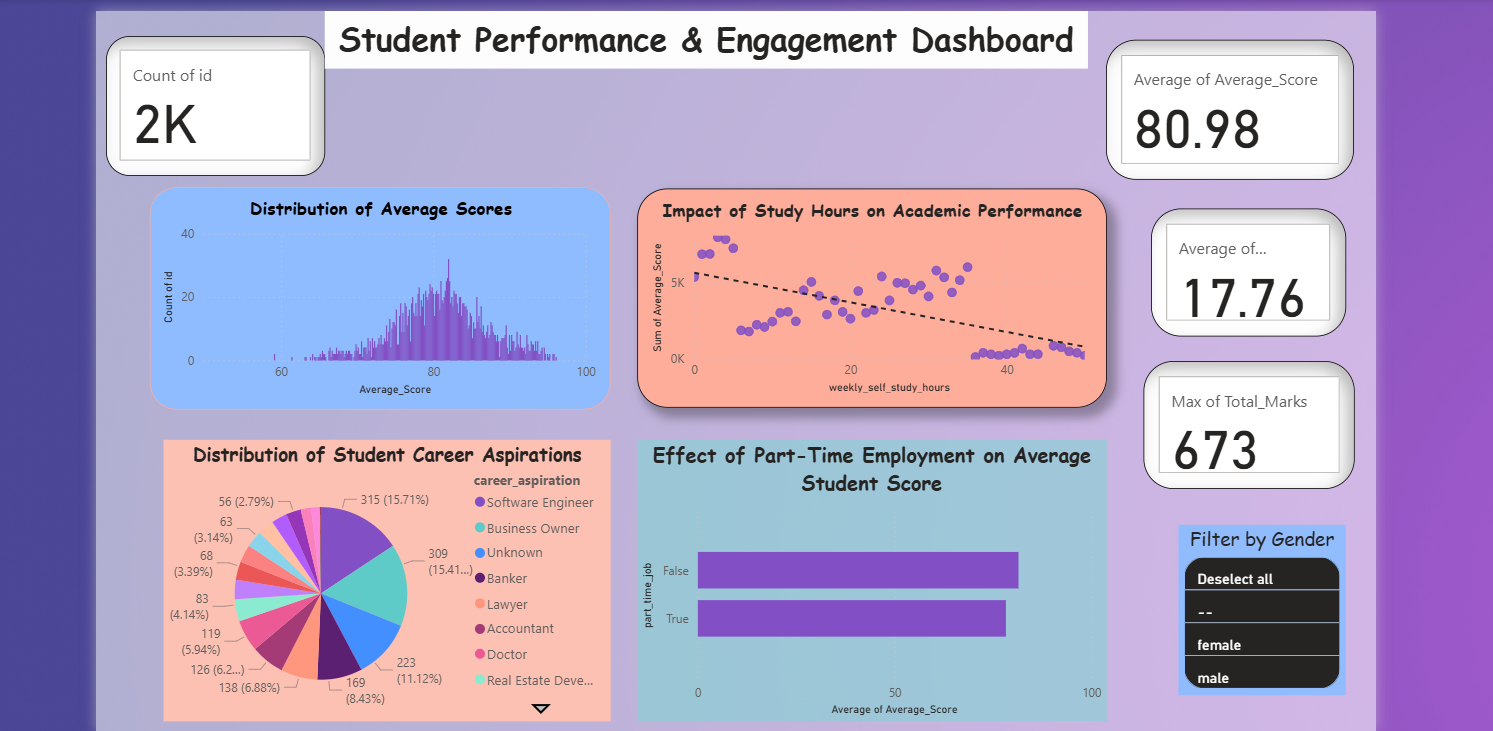

What the dashboard file says about the page in this screenshot:
{"tool":"powerbi","page":{"name":"Page 1","canvas":[1280,720],"ordinal":0},"visuals":[{"type":"clusteredColumnChart","title":"Distribution of Average Scores","fields":{"Category":["Students.Average_Score"],"Y":["CountNonNull(Students.id)","select"]},"box":[53.5,175.6,461.1,222.3],"z":0},{"type":"scatterChart","title":"Impact of Study Hours on Academic Performance","fields":{"Y":["Sum(Students.Average_Score)"],"X":["Students.weekly_self_study_hours"]},"box":[540.7,177,469.3,219.6],"z":1000},{"type":"clusteredBarChart","title":"Effect of Part-Time Employment on Average Student Score","fields":{"Category":["Students.part_time_job"],"Y":["Avg(Students.Average_Score)"]},"box":[540.7,428.1,469.3,281.3],"z":2000},{"type":"pieChart","title":"Distribution of Student Career Aspirations","fields":{"Category":["Students.career_aspiration"],"Y":["Count(Students.id)"]},"box":[67.2,428.1,447.3,281.3],"z":3000},{"type":"cardVisual","fields":{"Data":["CountNonNull(Students.id)"]},"box":[9.6,24.7,219.6,140],"z":4000},{"type":"cardVisual","fields":{"Data":["Avg(Students.Average_Score)"]},"box":[1010,28.8,248.4,140],"z":5000},{"type":"advancedSlicerVisual","title":"Filter by Gender","fields":{"Values":["Students.gender"]},"box":[1082.9,514.3,167.1,170],"z":6000},{"type":"cardVisual","fields":{"Data":["Count(Sheet3 (2).Count of career_aspiration)"]},"box":[1055.2,197.6,194.9,127.6],"z":7000},{"type":"cardVisual","fields":{"Data":["Max(Students.Total_Marks)"]},"box":[1047,349.9,211.3,127.6],"z":8000},{"type":"textbox","box":[229.2,0,763,57.6],"z":9000}]}

Visuals, with their boxes on the page's 1280x720 design canvas (x1, y1, x2, y2). These are canvas units, not pixel positions in the 1493x731 screenshot, which may show the page scaled, cropped or inside an application window:
"Distribution of Average Scores" clusteredColumnChart: bbox(54, 176, 515, 398)
"Impact of Study Hours on Academic Performance" scatterChart: bbox(541, 177, 1010, 397)
"Effect of Part-Time Employment on Average Student Score" clusteredBarChart: bbox(541, 428, 1010, 709)
"Distribution of Student Career Aspirations" pieChart: bbox(67, 428, 514, 709)
cardVisual - CountNonNull(Students.id): bbox(10, 25, 229, 165)
cardVisual - Avg(Students.Average_Score): bbox(1010, 29, 1258, 169)
"Filter by Gender" advancedSlicerVisual: bbox(1083, 514, 1250, 684)
cardVisual - Count(Sheet3 (2).Count of career_aspiration): bbox(1055, 198, 1250, 325)
cardVisual - Max(Students.Total_Marks): bbox(1047, 350, 1258, 478)
textbox: bbox(229, 0, 992, 58)
